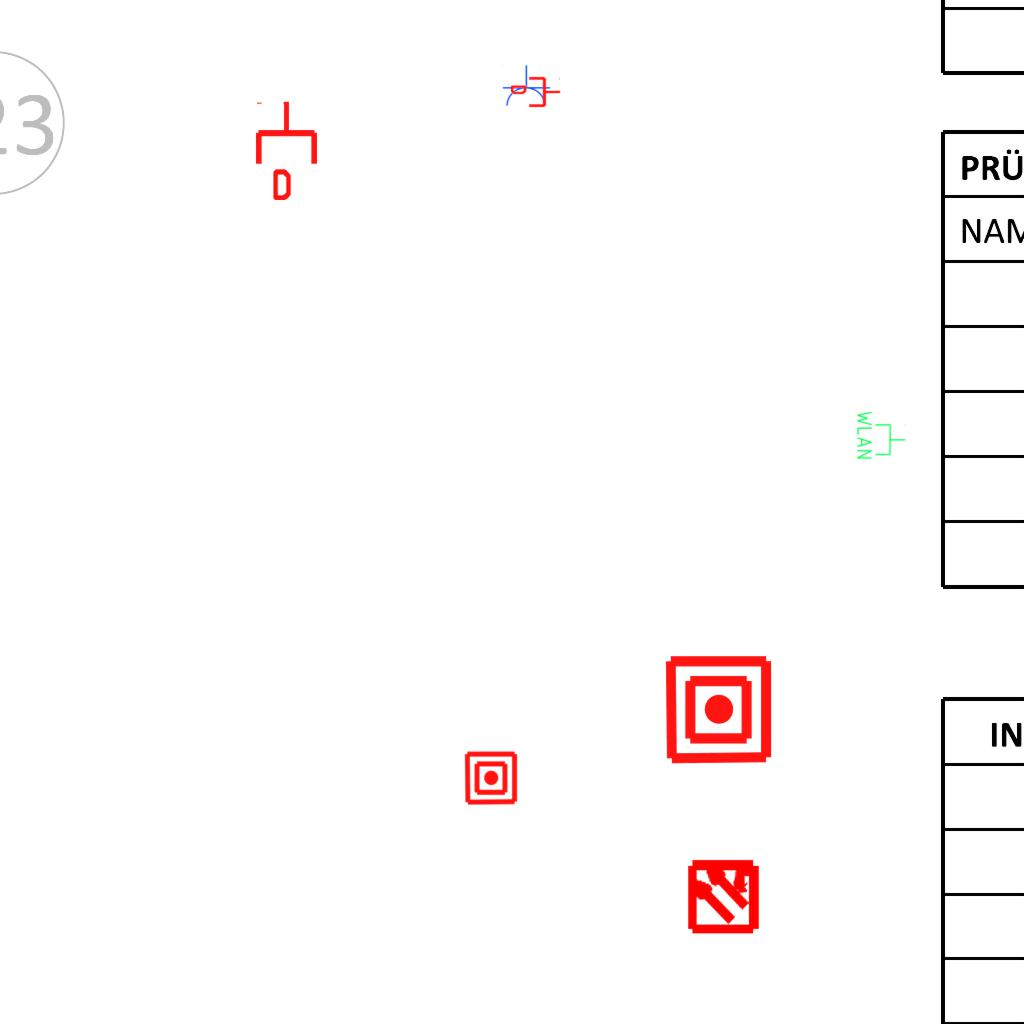Datenanschluss_einfach: (252, 100, 321, 200), (511, 75, 561, 109)
NAM-Nichtautomatischer_Melder: (662, 653, 775, 766), (463, 750, 519, 806)
OT_Multisensormelder_(Kombination_RMO_WMD): (667, 838, 780, 951)
Schukosteckdose_einfach: (501, 65, 551, 108)
WLAN: (855, 409, 907, 461)
